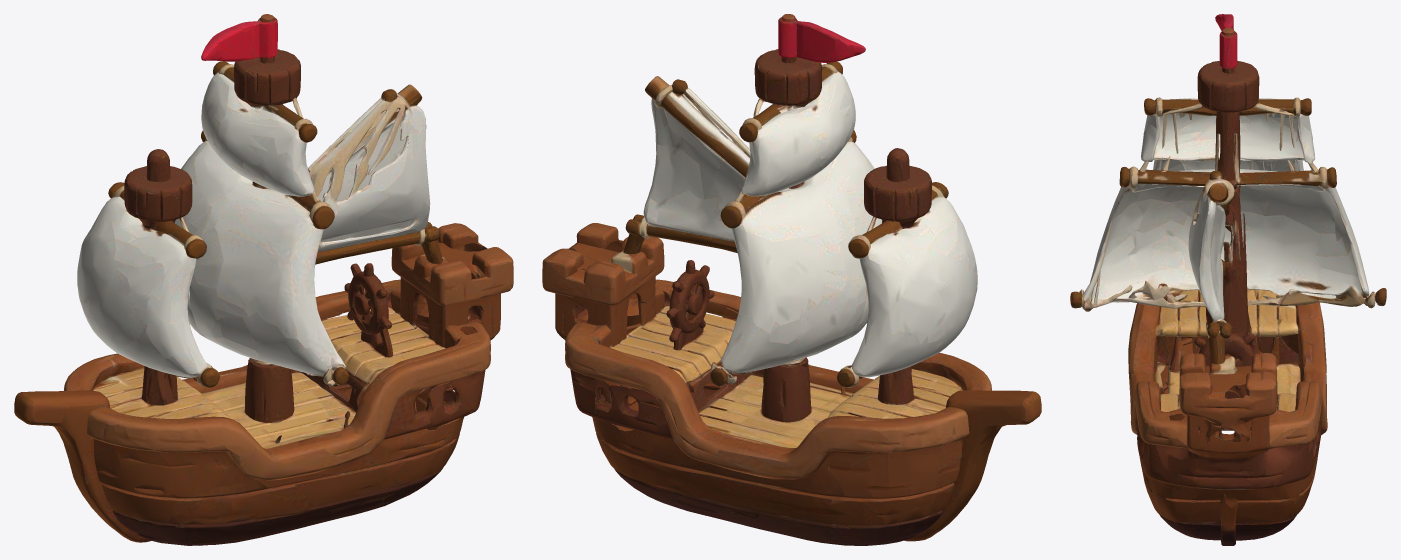
File: map_barco.glb
3 renders of one model, left to right at view 1: azimuth 30°, elevation 25°; view 2: azimuth 150°, elevation 25°; view 3: azimuth 270°, elevation 25°, orthographic. The views are drawn at different scales.
Visible parts, largest first — view 1: mesh_node; view 2: mesh_node; view 3: mesh_node.
Boxes of the visible parts, <box> form: mesh_node: <box>14,14,513,545</box>; mesh_node: <box>542,14,1041,545</box>; mesh_node: <box>1070,14,1386,545</box>.
Size of the model in its own units: 1.89 by 1.87 by 1.18.
Materials: 1 (1 with a texture image).
